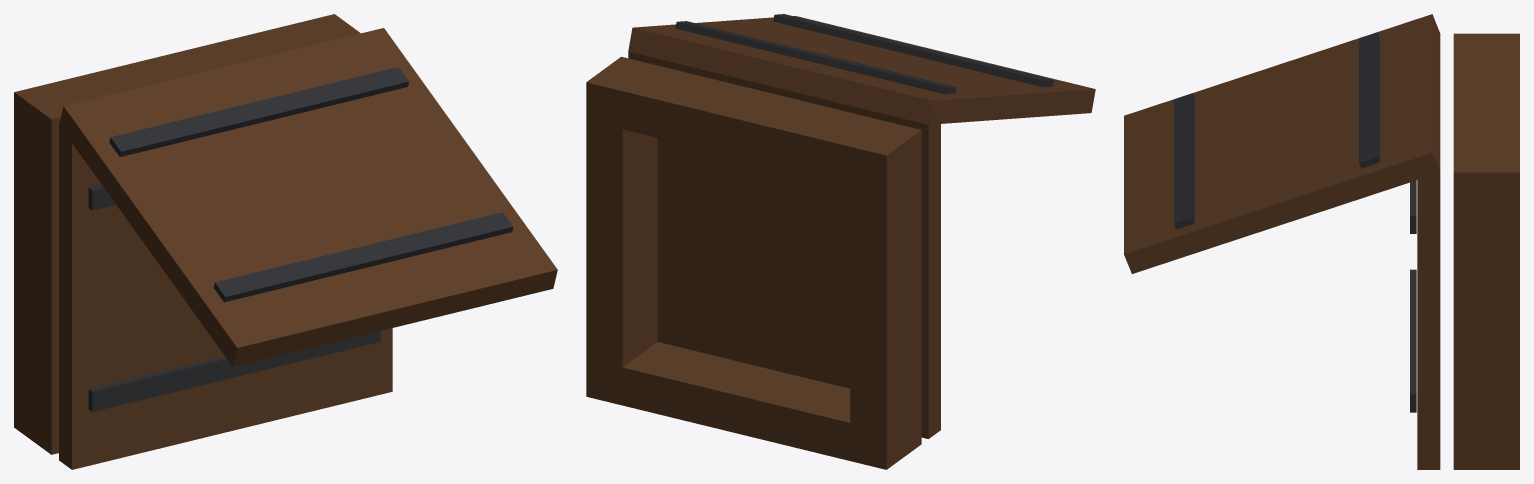
File: amelioration--sabord.glb
The picture shows the model from 3 angles, left to right: view 1: azimuth 30°, elevation 25°; view 2: azimuth 150°, elevation 25°; view 3: azimuth 270°, elevation 25°; orthographic projection. The views are drawn at different scales.
Parts seen in each view (by area): view 1: ouvert, ferme, cadre; view 2: cadre, ferme, ouvert; view 3: ouvert, cadre, ferme.
Boxes of the visible parts, <box> form: ouvert: <box>59,28,557,366</box>; ferme: <box>59,125,392,469</box>; cadre: <box>14,14,360,454</box>; cadre: <box>586,56,921,469</box>; ferme: <box>628,51,940,438</box>; ouvert: <box>628,14,1095,124</box>; ouvert: <box>1124,14,1440,273</box>; cadre: <box>1453,33,1519,469</box>; ferme: <box>1410,172,1440,469</box>.
Bounding box in the file's own units: 0.99 × 1.06 × 1.19.
